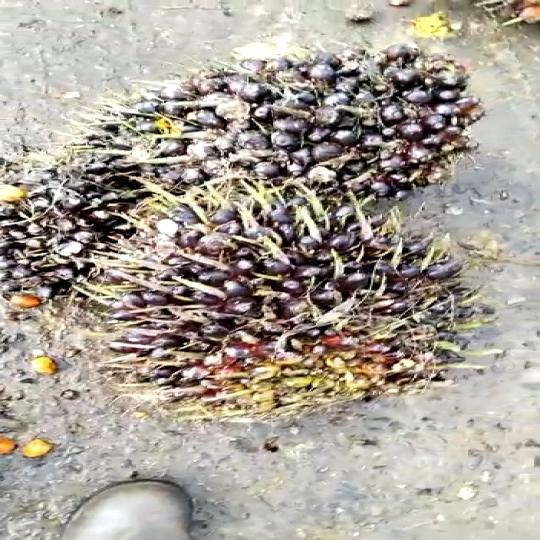mentah: (0, 46, 528, 416)
